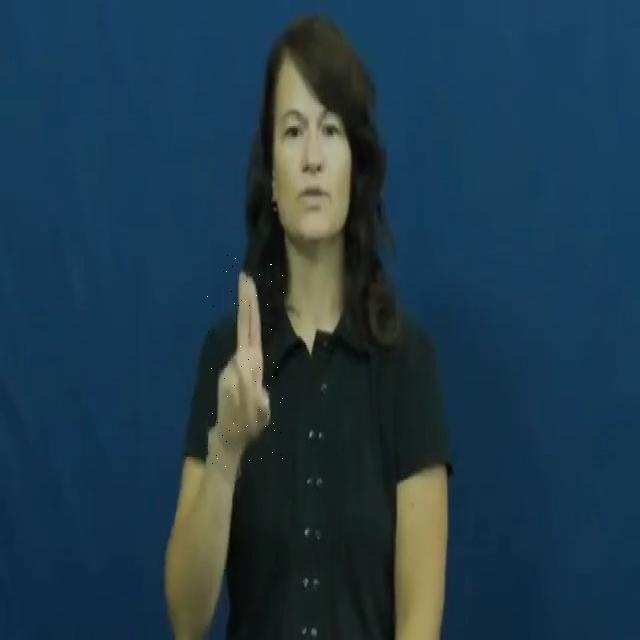urgent: (206, 252, 284, 467)
